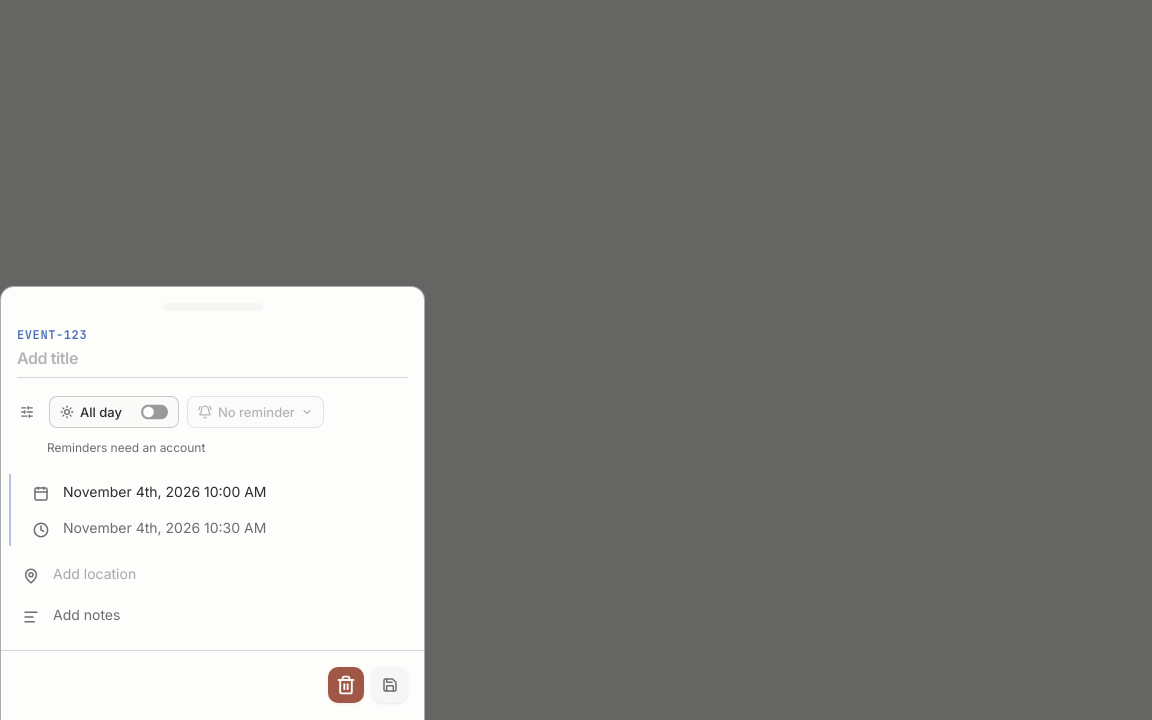
Test case: CreateEventDialog Deletion Safety & Confirmation › prompts confirmation alert dialog when clicking delete, and does not immediately delete
Click the button named "delete event" at (346, 685), box [328, 667, 364, 703]
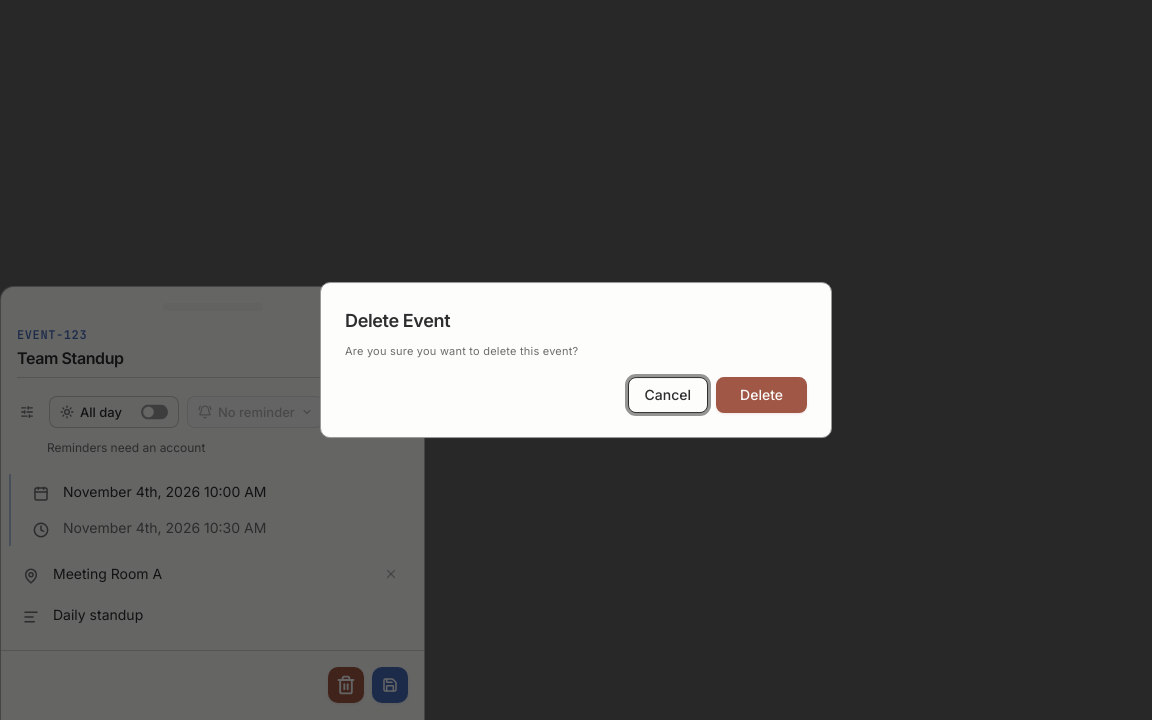
Check: the heading "Delete Event" is shown, box [345, 310, 450, 331]
Check: the text "Are you sure you want to delete this event?" is shown, box [345, 344, 578, 358]
